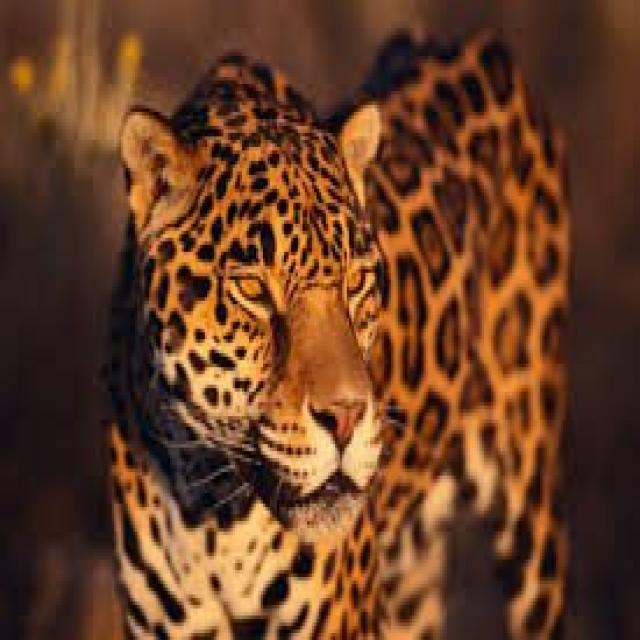Jaguar: (107, 42, 549, 640)
